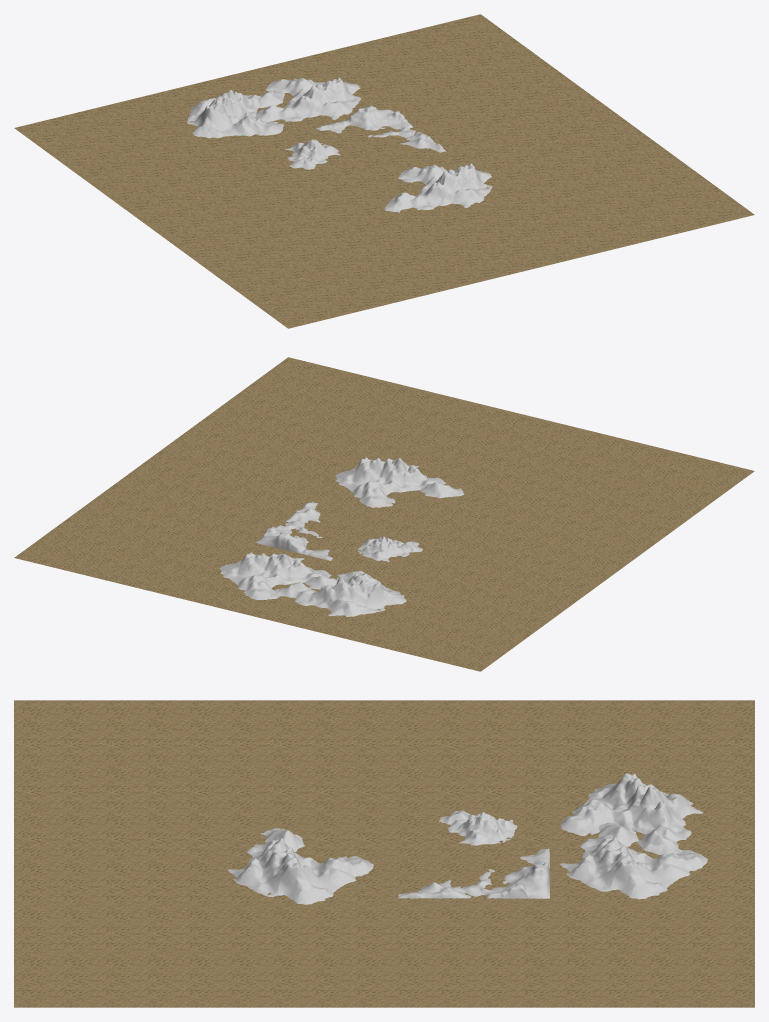
The model's file is sm_terrain.FBX.
3 views of the same model, one above another, from view 1: azimuth 30°, elevation 25°; view 2: azimuth 150°, elevation 25°; view 3: azimuth 270°, elevation 25° (orthographic). The views are drawn at different scales.
Parts seen in each view (by area): view 1: ter1; view 2: ter1; view 3: ter1.
Part boxes in pixels (left/top/right/bottom): ter1: left=14, top=14, right=754, bottom=328; ter1: left=14, top=357, right=754, bottom=671; ter1: left=14, top=700, right=754, bottom=1007.
Size of the model in its own units: 3749445 by 176560 by 3816452.
